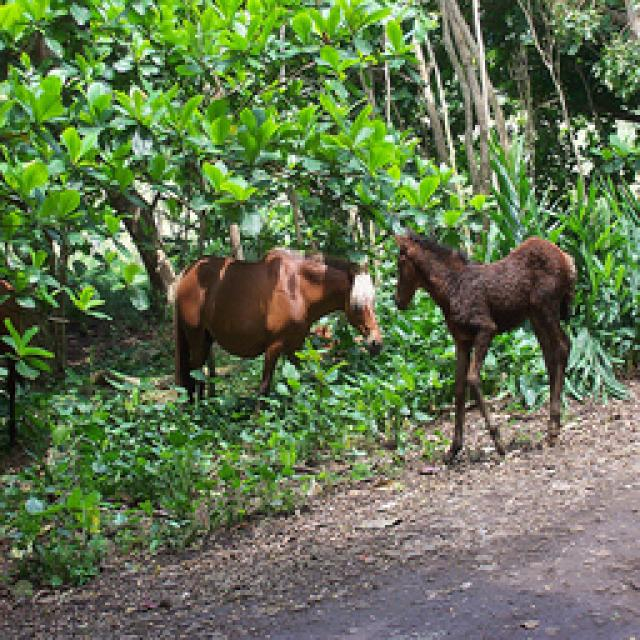not_pig: (390, 225, 575, 463), (170, 245, 382, 407), (0, 265, 22, 455)
